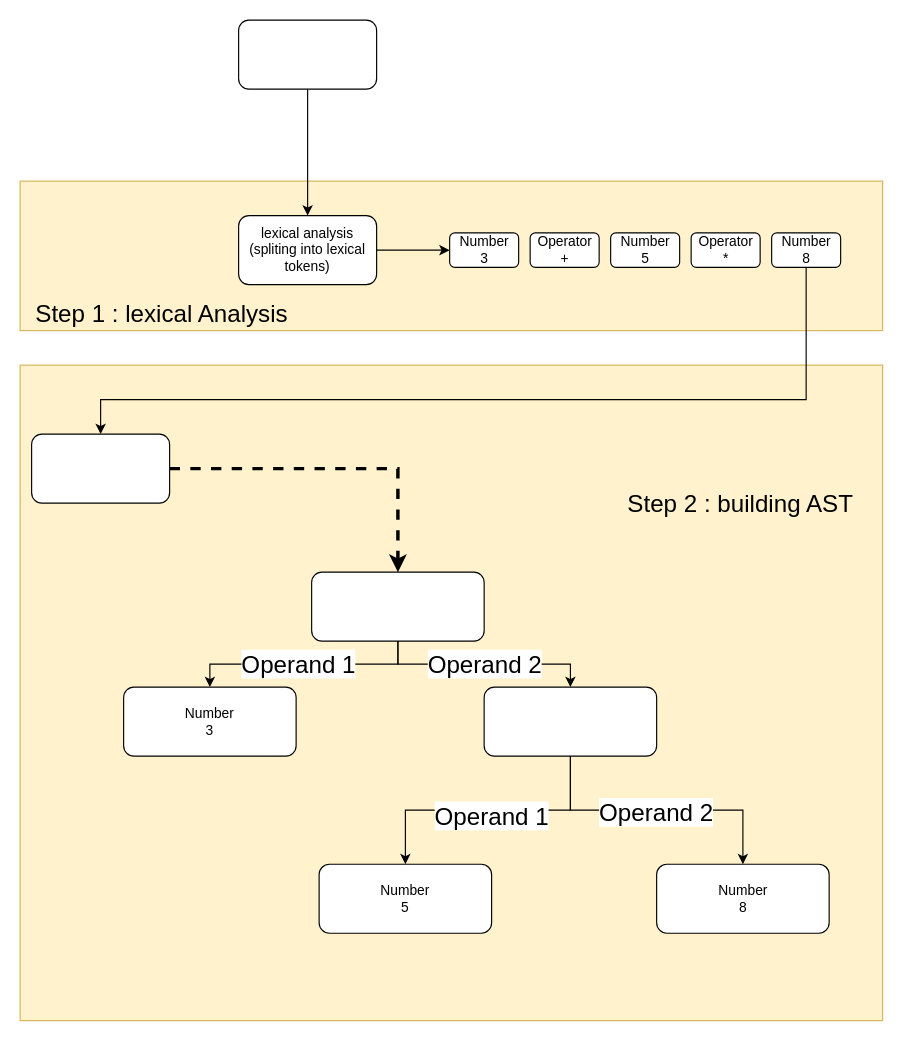
Image size: 903x1041. Some labels were removed from this diagram. Each missing label, with the centre of its shape:
BinaryOperator *: point 570,721
BinaryOperator +: point 397,606
Converting tokens into AST: point 100,468
input string e.g. "3+5*8": point 307,54
